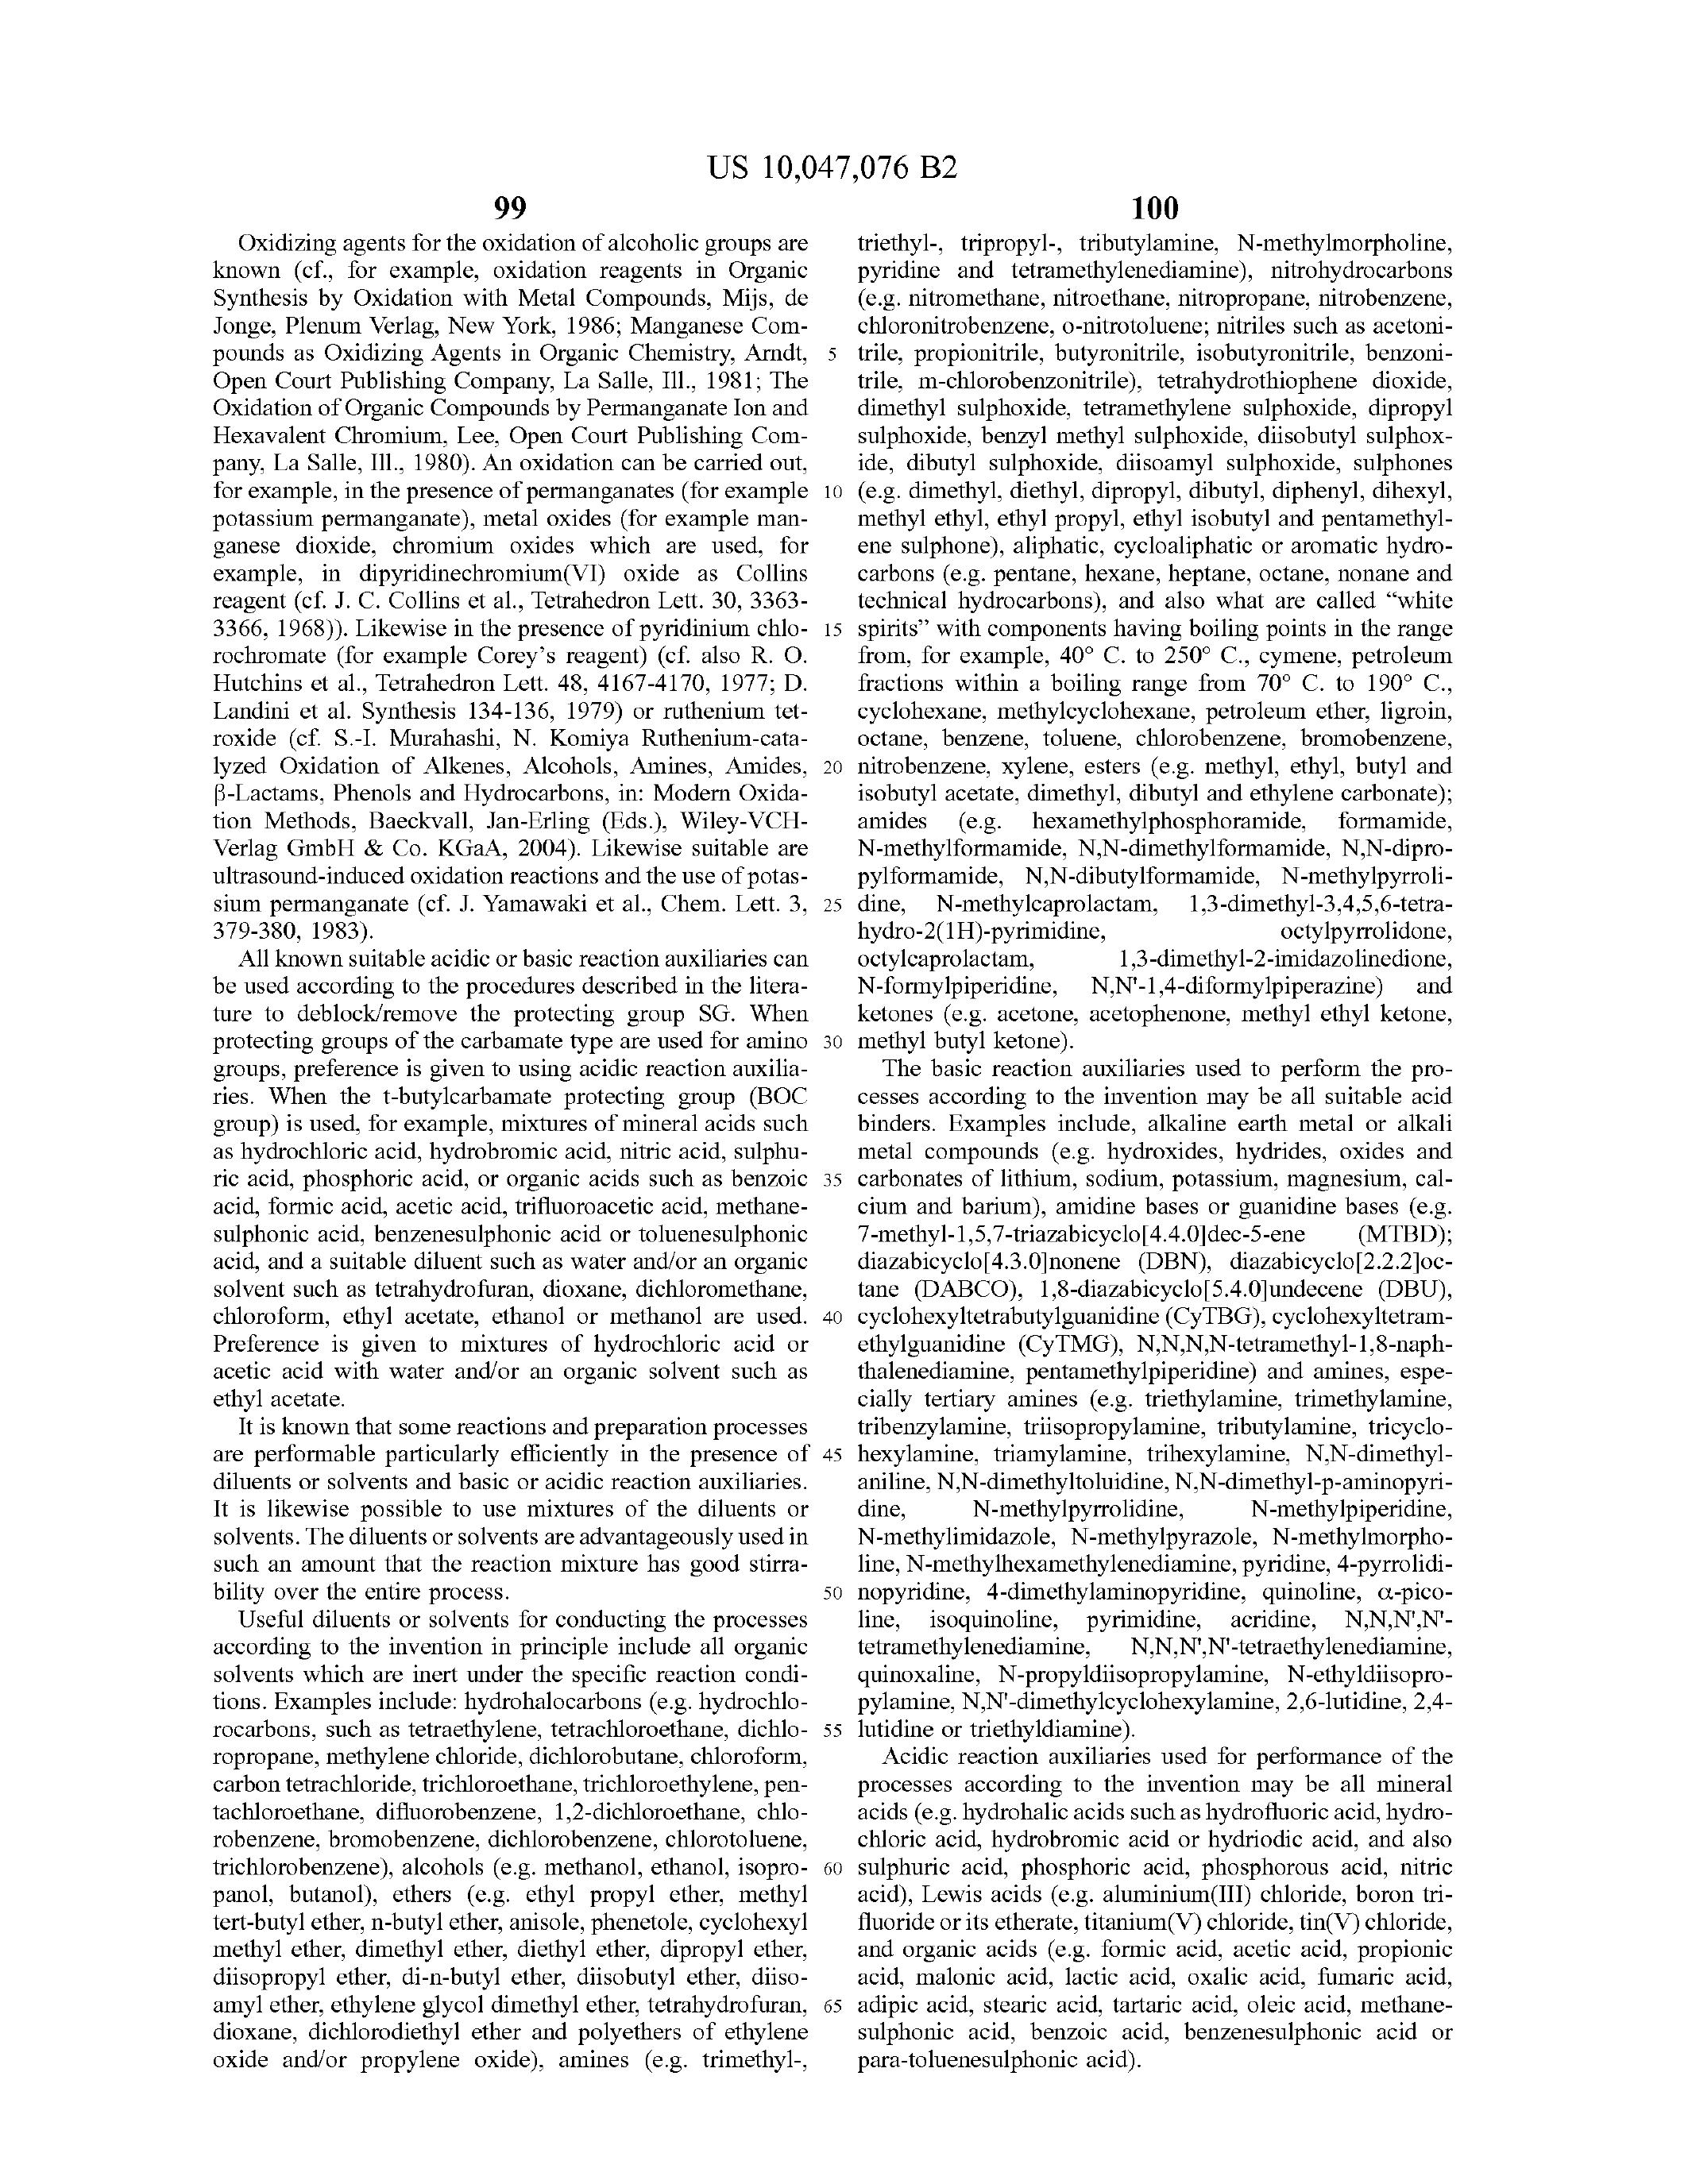reactions: (842, 1062, 1489, 1734)
